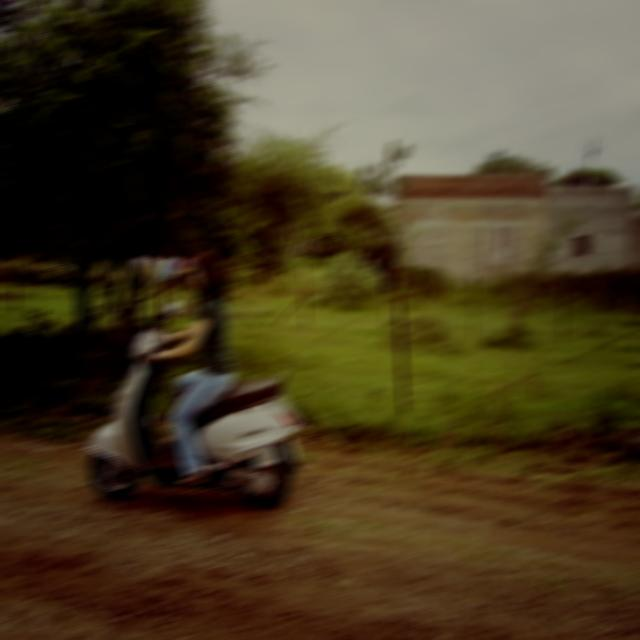Without Helmet: (184, 250, 224, 295)
